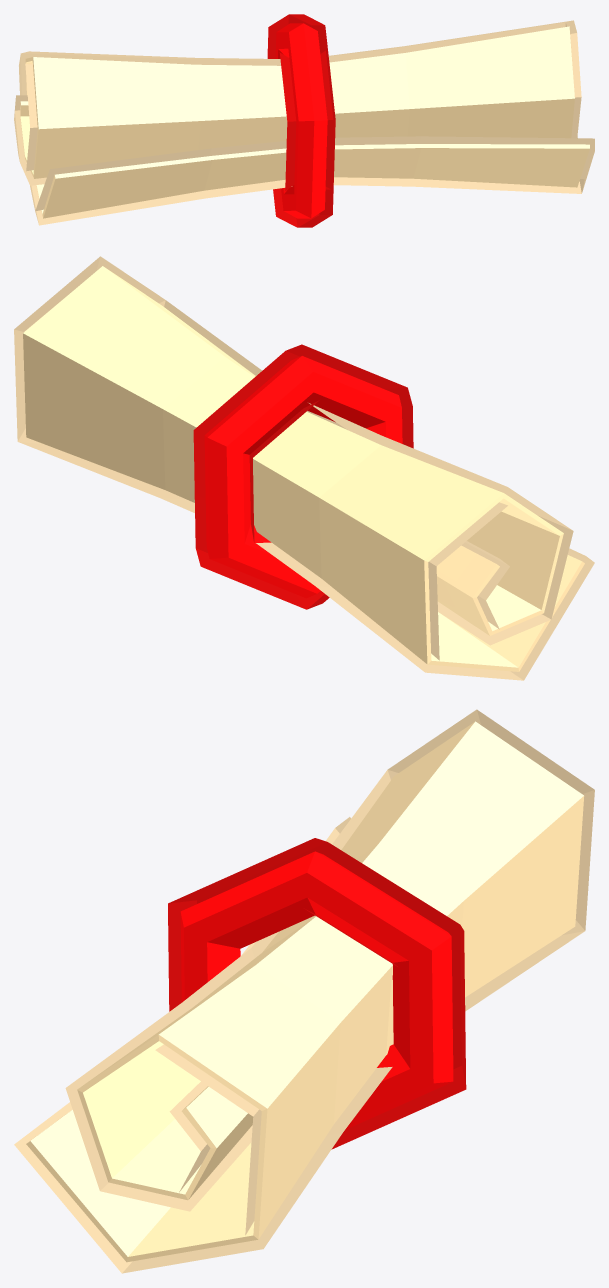
The model's file is scroll1.glb.
3 renders of one model, top to bottom at view 1: azimuth 30°, elevation 25°; view 2: azimuth 150°, elevation 25°; view 3: azimuth 270°, elevation 25°, orthographic. The views are drawn at different scales.
Visible parts, largest first — view 1: Scroll, PaperToon; view 2: Scroll, PaperToon; view 3: Scroll, PaperToon.
Boxes of the visible parts, box(x1,y1,x2,y2) form: Scroll: box(20, 23, 589, 218); PaperToon: box(14, 14, 594, 227); Scroll: box(23, 266, 584, 671); PaperToon: box(14, 256, 594, 680); Scroll: box(26, 721, 584, 1262); PaperToon: box(14, 709, 594, 1273).
Bounding box in the file's own units: 0.5108 × 0.2113 × 0.3464.
Materials: 2 (2 with a texture image).
